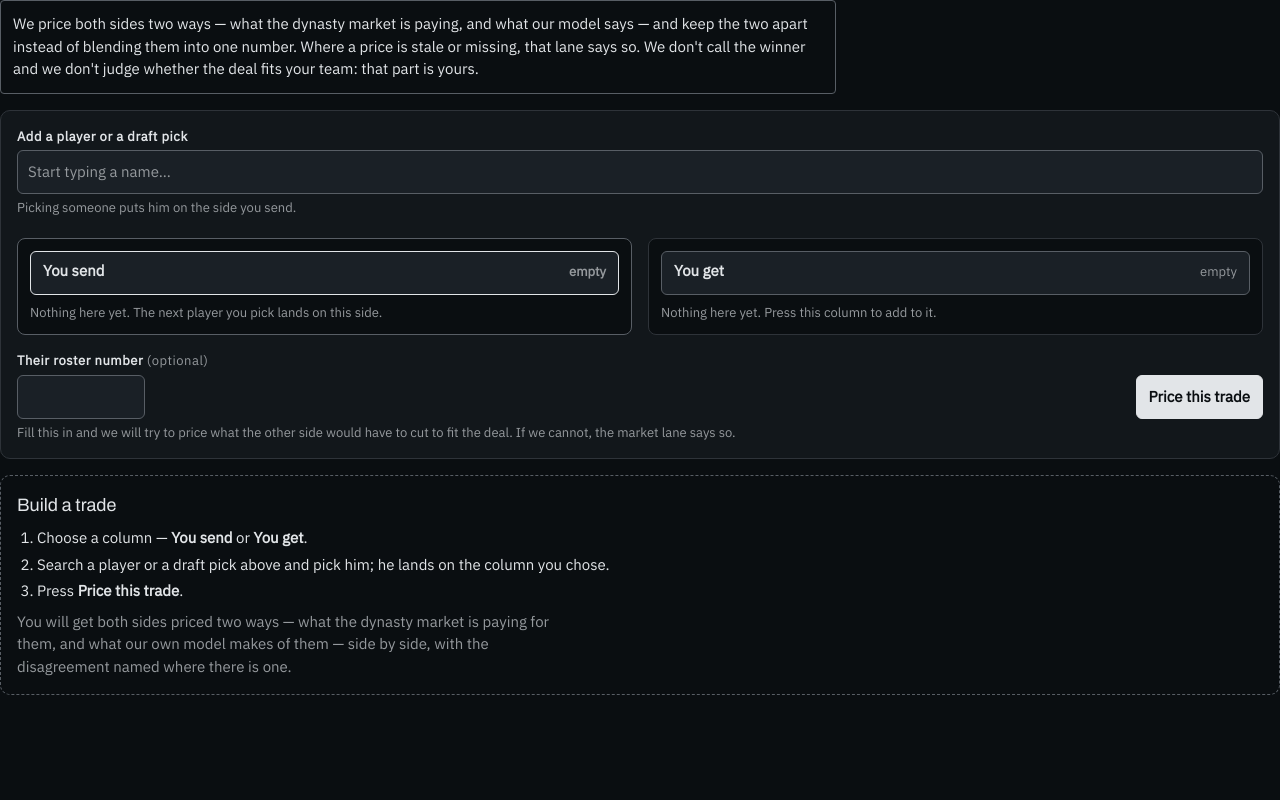
Test: Trade Lab mitigation contract › renders the equal-weight lane pair after the mitigation copy after a run
Type "cha" into the search field.
click(640, 172); type("cha")  # box [17,150,1263,194]
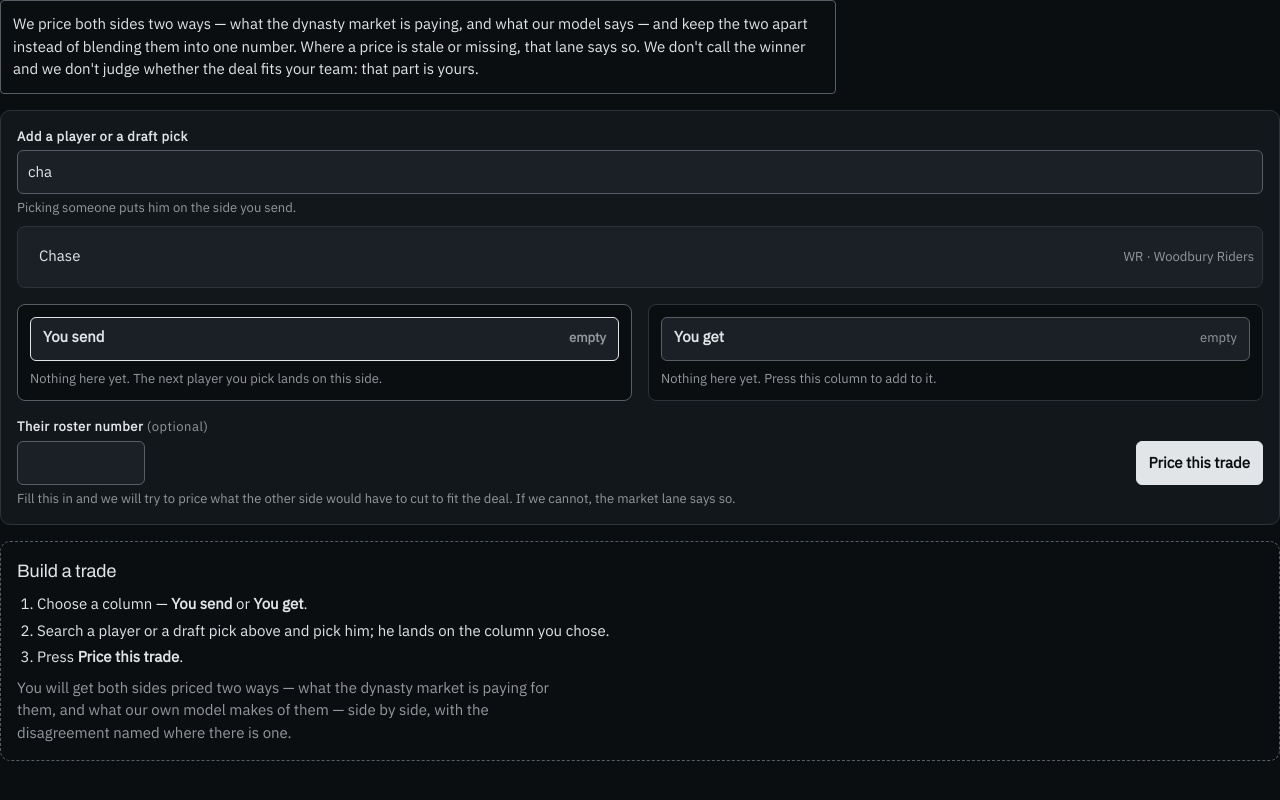
Click the button "Chase".
click(60, 256)  # box [26,234,1116,278]
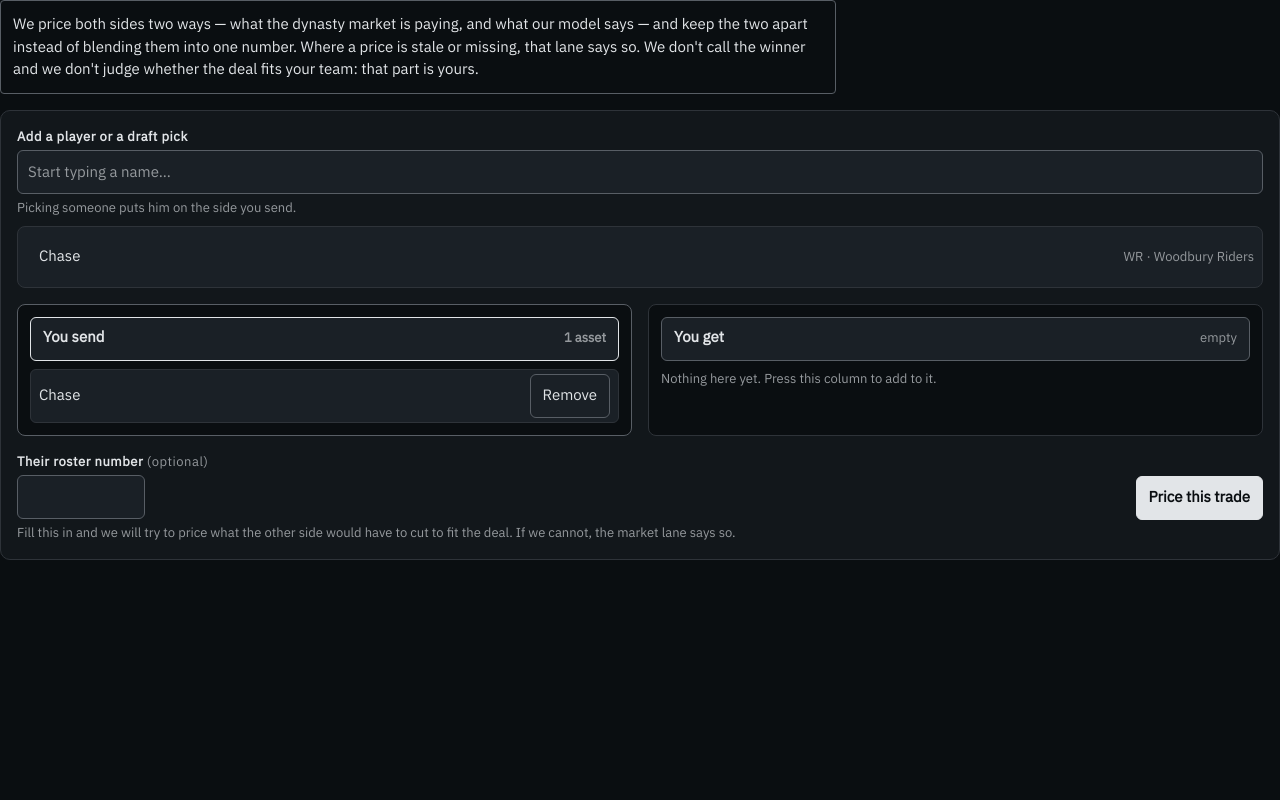
Click the button "Price this trade".
click(1199, 498)  # box [1136,476,1263,520]
(page scrolled)
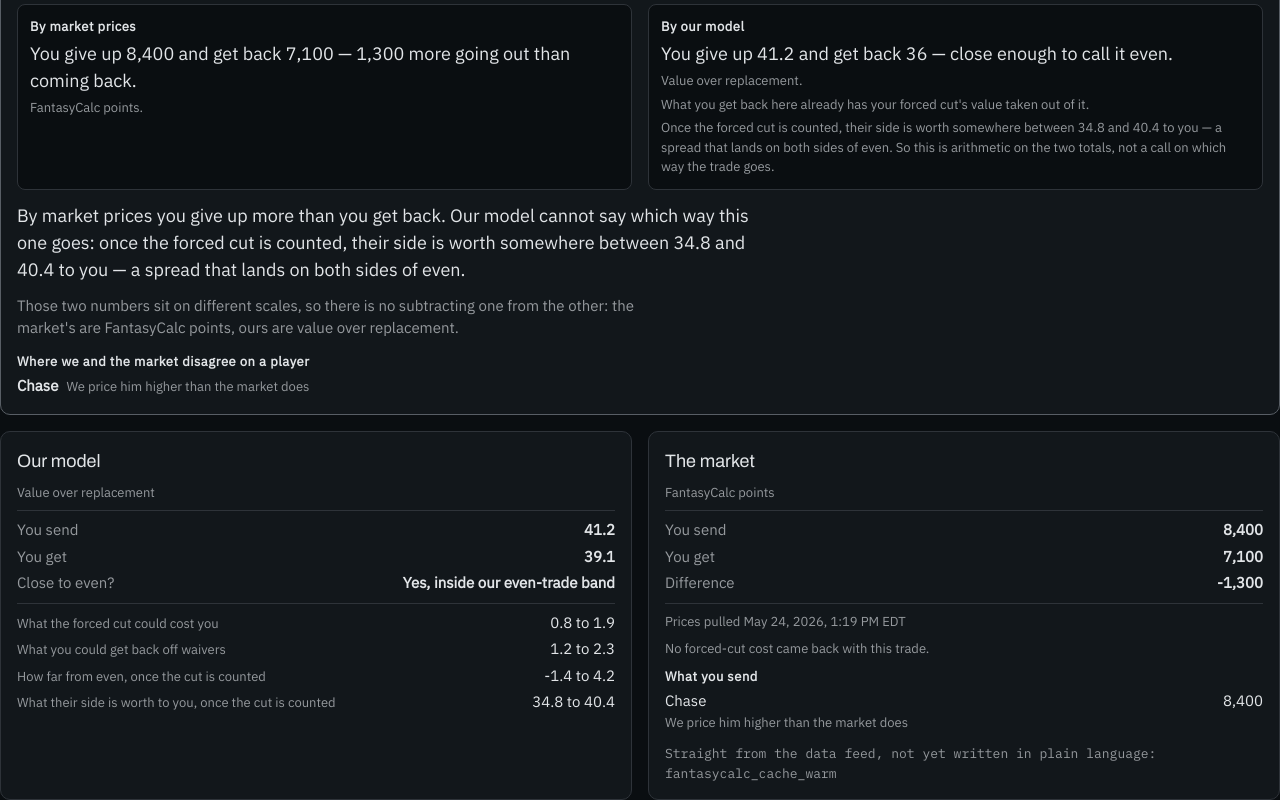
Check: the element with test id "trade-lane-pair" is shown, box [0,430,1279,799]
